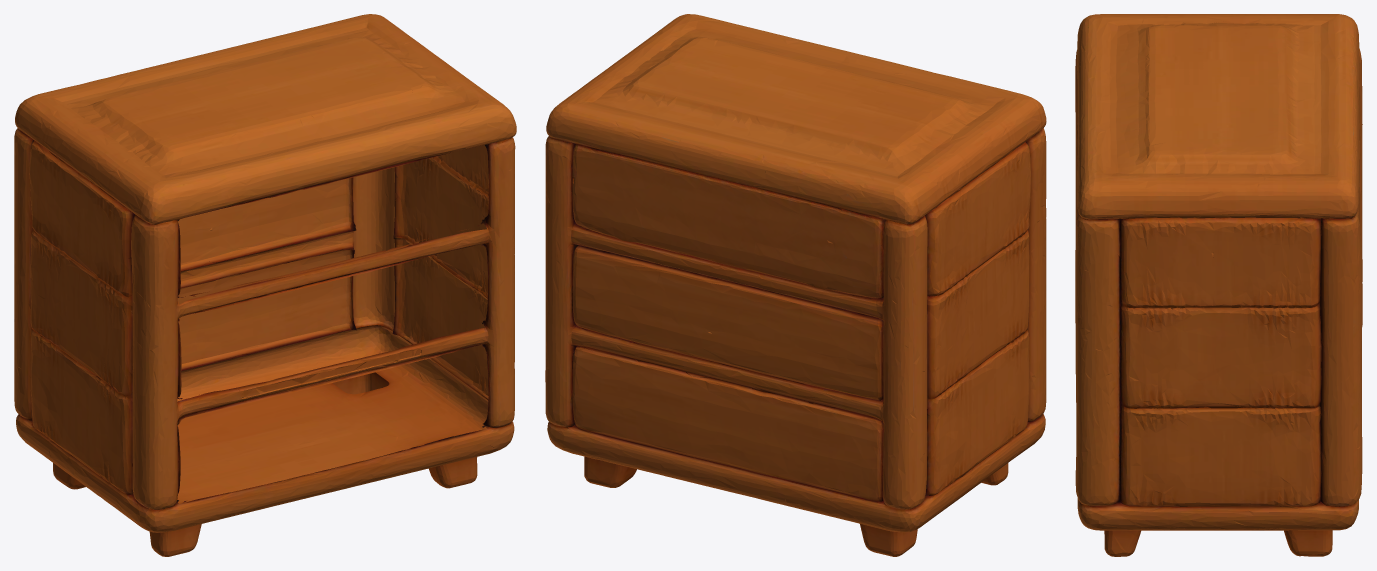
Rendered from body.glb.
The picture shows the model from 3 angles, left to right: view 1: azimuth 30°, elevation 25°; view 2: azimuth 150°, elevation 25°; view 3: azimuth 270°, elevation 25°; orthographic projection.
Parts seen in each view (by area): view 1: source_surface_0; view 2: source_surface_0; view 3: source_surface_0.
Part boxes in pixels (x1,y1,x2,y2): source_surface_0: (14, 14, 516, 556); source_surface_0: (545, 14, 1046, 556); source_surface_0: (1075, 14, 1362, 556).
Bounding box in the file's own units: 0.6 × 0.5895 × 0.3914.
1 material, 1 textured.
